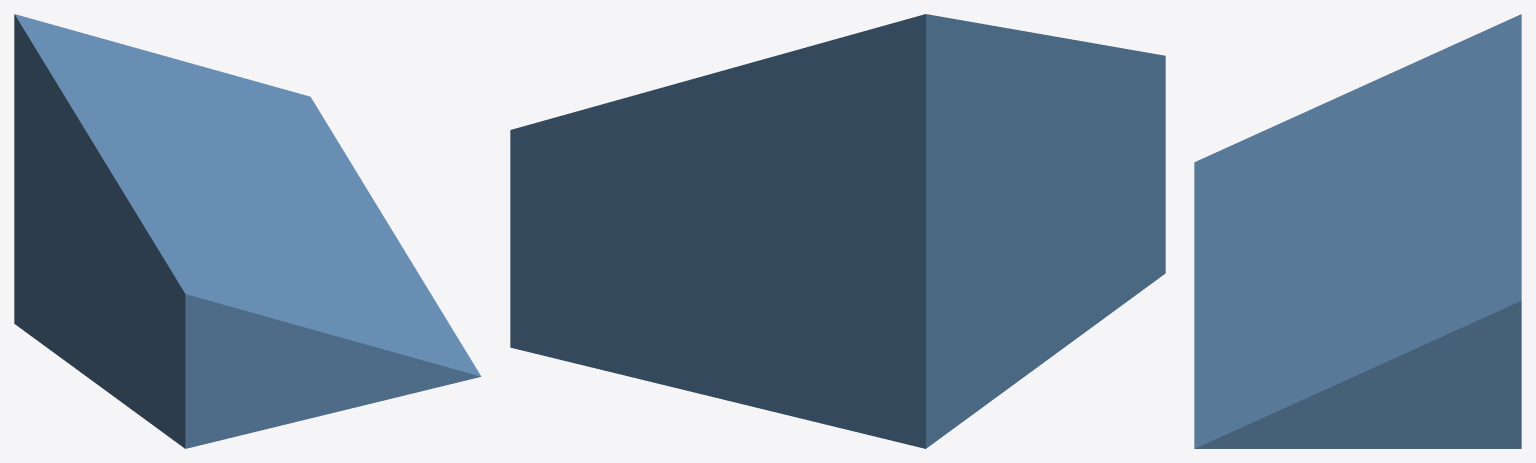
File: Spawn_OuterCorner.glb
The picture shows the model from 3 angles, left to right: view 1: azimuth 30°, elevation 25°; view 2: azimuth 150°, elevation 25°; view 3: azimuth 270°, elevation 25°; orthographic projection. The views are drawn at different scales.
Visible parts, largest first — view 1: Spawn_OuterCorner_body; view 2: Spawn_OuterCorner_body; view 3: Spawn_OuterCorner_body.
Boxes of the visible parts, box(x1,y1,x2,y2) form: Spawn_OuterCorner_body: box(14, 14, 481, 448); Spawn_OuterCorner_body: box(510, 14, 1165, 448); Spawn_OuterCorner_body: box(1194, 14, 1521, 448).
Size of the model in its own units: 1 by 1 by 1.
